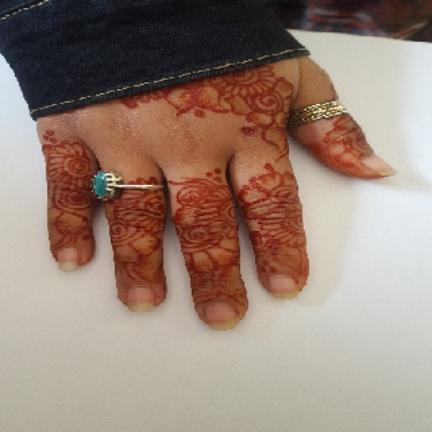Nail: (204, 302, 237, 332), (269, 274, 299, 301), (361, 154, 397, 176), (127, 286, 154, 313), (58, 248, 78, 271)
